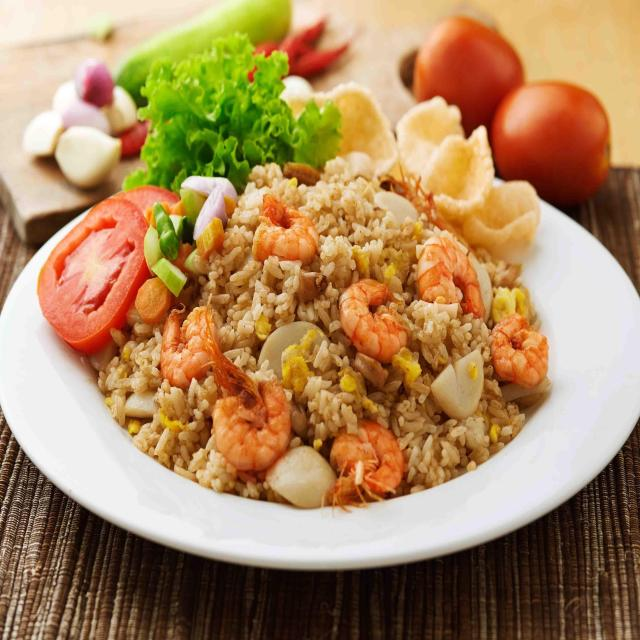Nasi Goreng: (134, 147, 541, 518)
